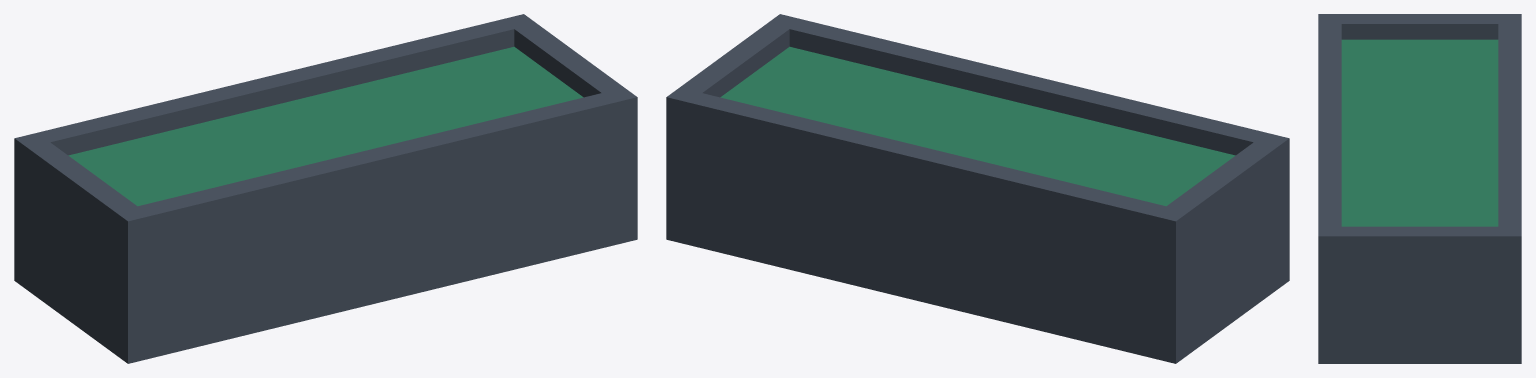
File: SquareFlowerBox.fbx
3 renders of one model, left to right at view 1: azimuth 30°, elevation 25°; view 2: azimuth 150°, elevation 25°; view 3: azimuth 270°, elevation 25°, orthographic. The views are drawn at different scales.
Visible parts, largest first — view 1: Cube; view 2: Cube; view 3: Cube.
Part boxes in pixels (left/top/right/bottom): Cube: left=14, top=14, right=637, bottom=363; Cube: left=666, top=14, right=1289, bottom=363; Cube: left=1318, top=14, right=1521, bottom=363.
Size of the model in its own units: 682 by 263 by 182.
